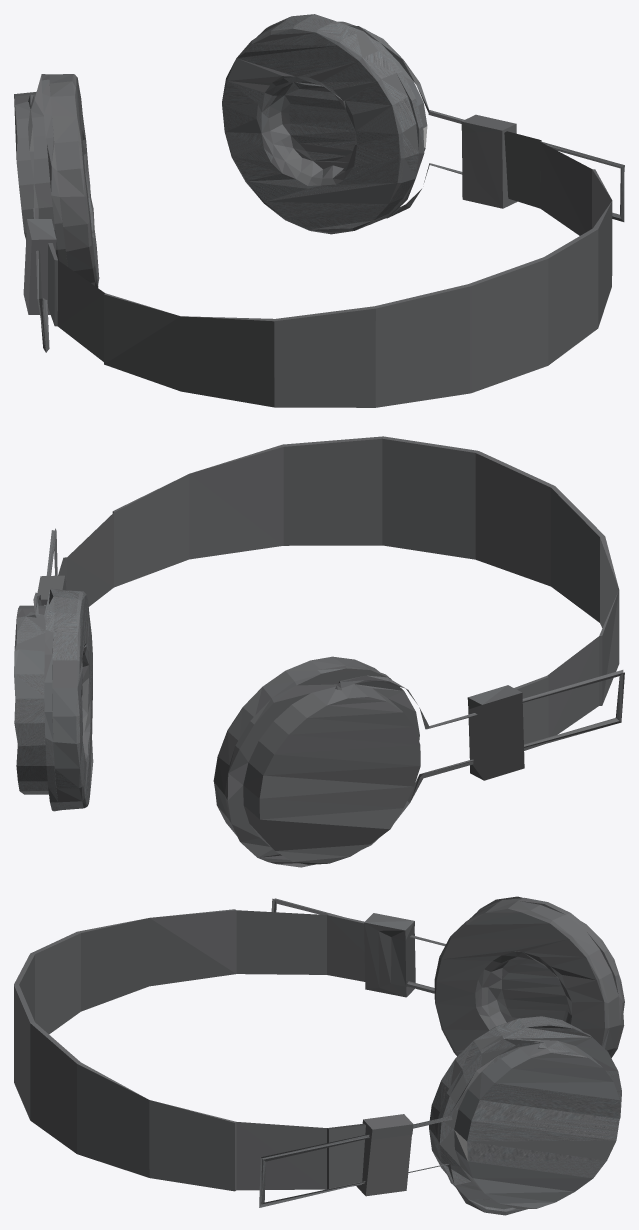
File: model_align.obj
The picture shows the model from 3 angles, top to bottom: view 1: azimuth 30°, elevation 25°; view 2: azimuth 150°, elevation 25°; view 3: azimuth 270°, elevation 25°; orthographic projection. The views are drawn at different scales.
Size of the model in its own units: 0.1324 by 0.0444 by 0.1323.
